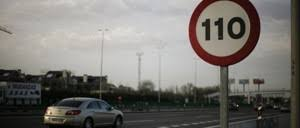Speed_limit_110km: (188, 1, 261, 67)
